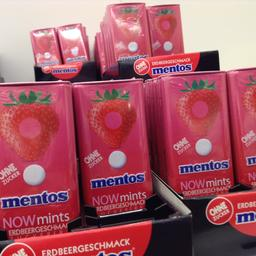candy: (0, 80, 77, 234), (74, 78, 156, 218), (163, 70, 232, 196), (107, 2, 152, 60), (144, 4, 184, 54), (56, 22, 89, 64), (30, 25, 60, 66)
